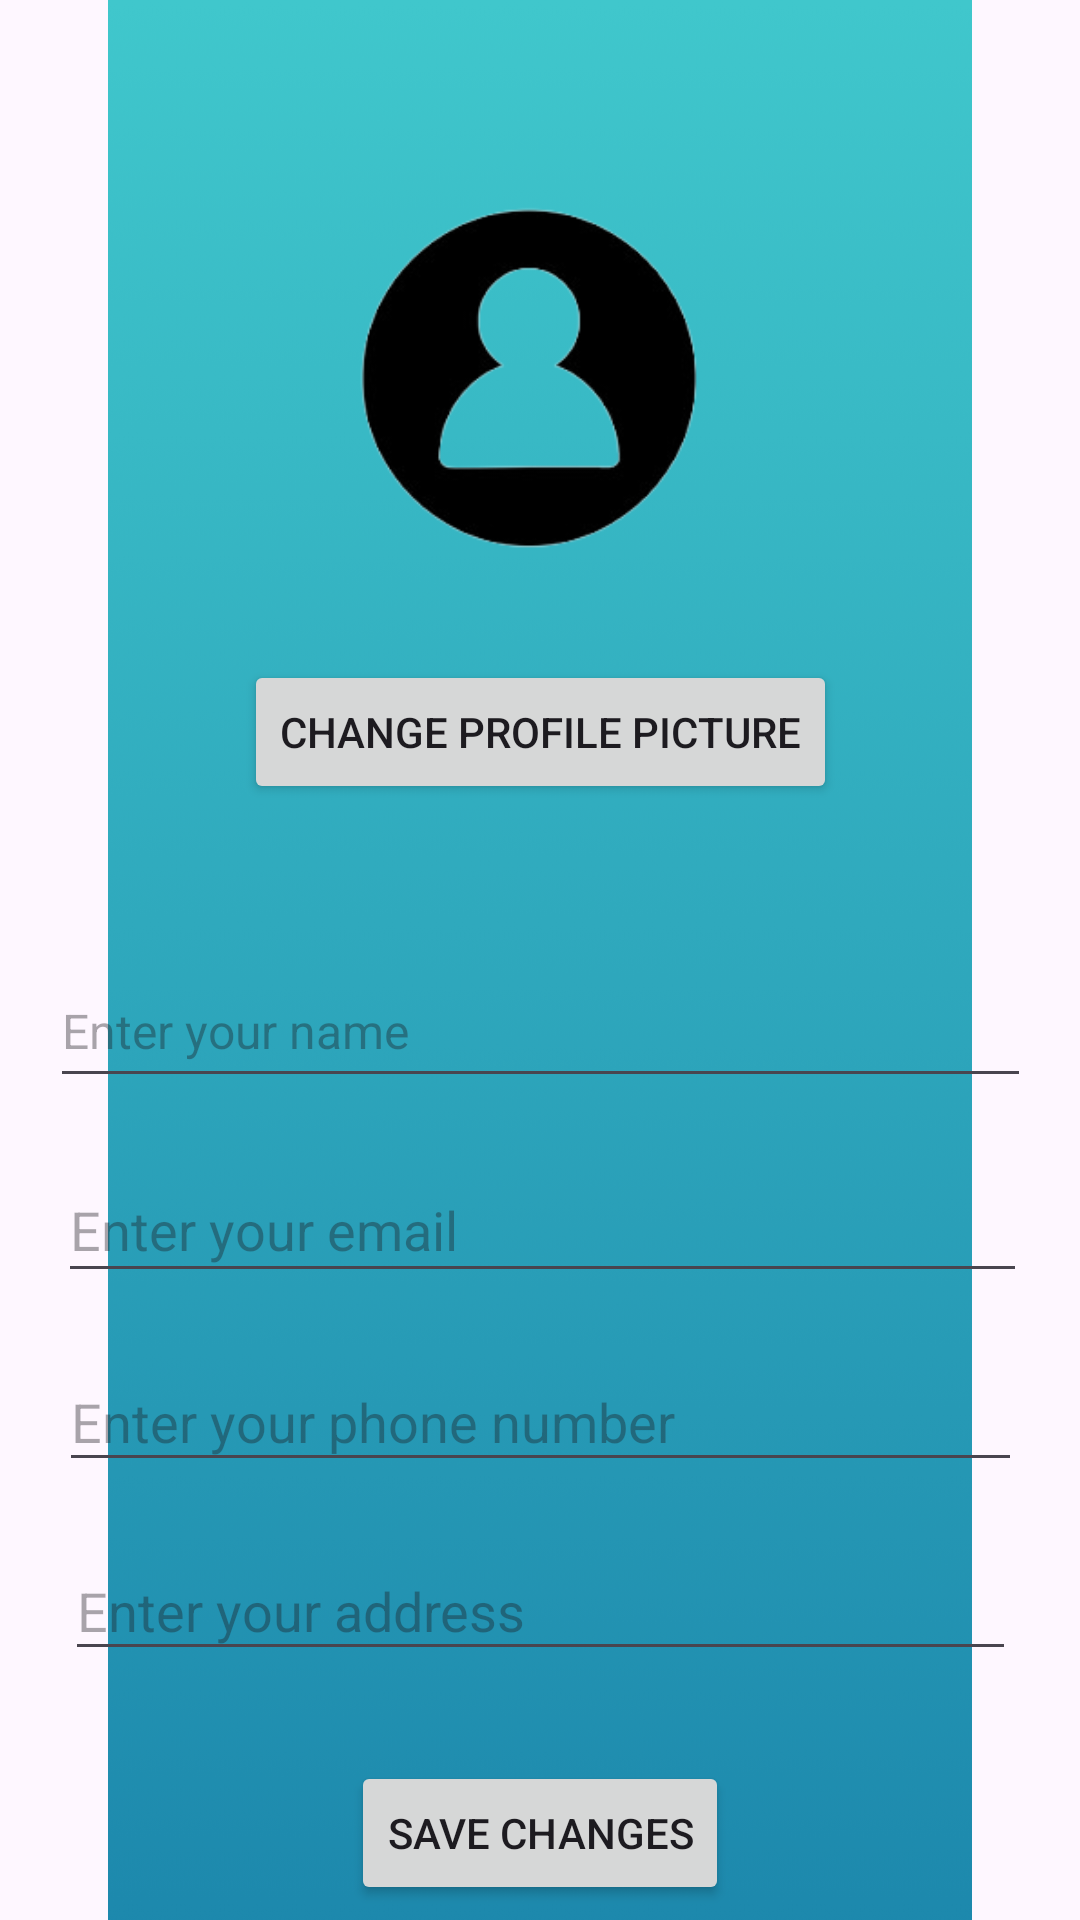

Locate icon controls on the screen. Image size 1080px x 1920px, boxes as (x1, y1, x2, y2).
user: (361, 208, 696, 548)
